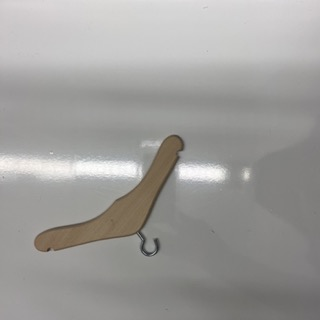rack: (34, 135, 185, 258)
